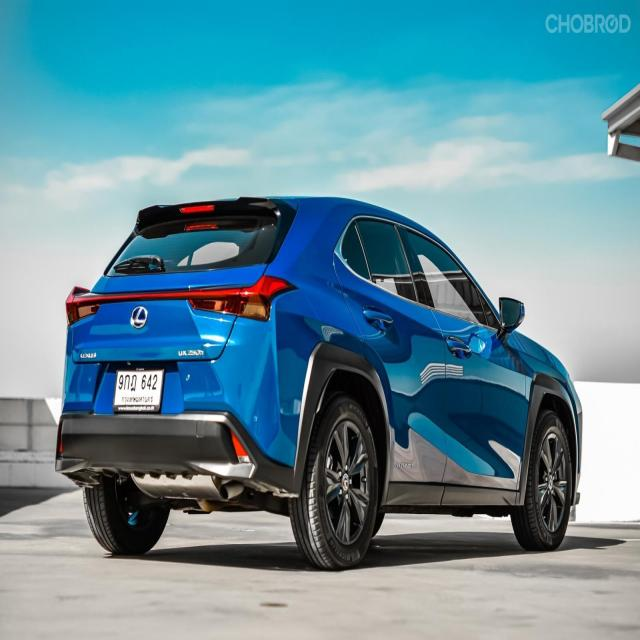license_plate: (114, 362, 165, 409)
